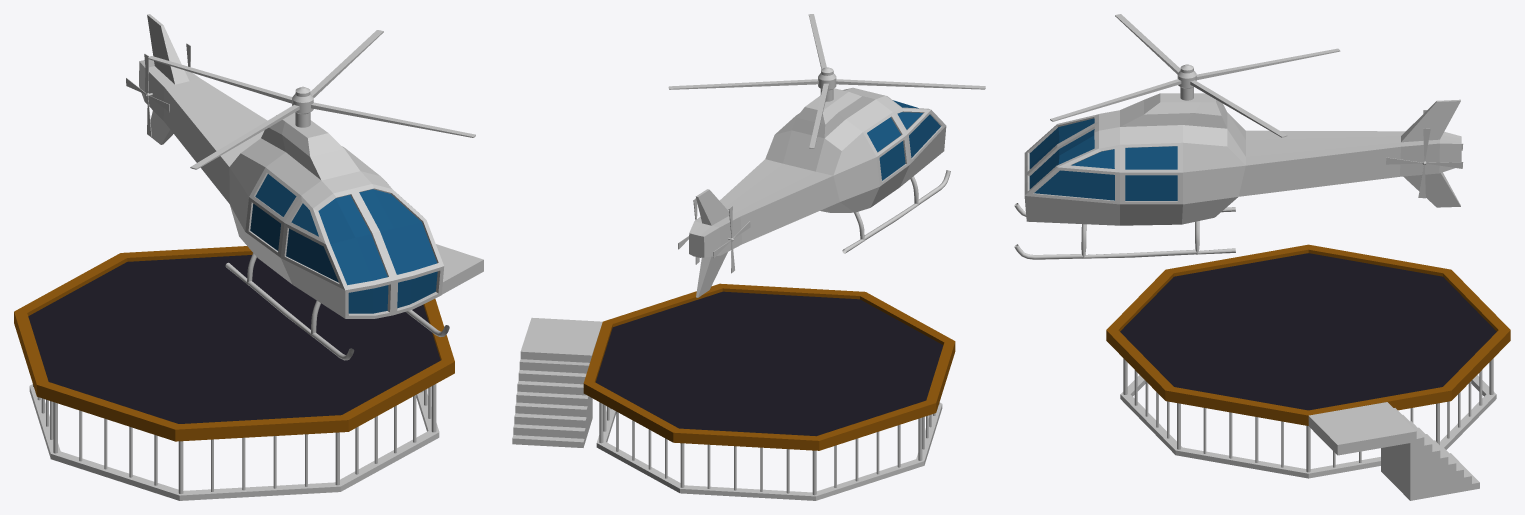
Rendered from copter_000016.obj.
3 renders of one model, left to right at view 1: azimuth 30°, elevation 25°; view 2: azimuth 150°, elevation 25°; view 3: azimuth 270°, elevation 25°, orthographic. The views are drawn at different scales.
Visible parts, largest first — view 1: Cylinder.001_Cylinder.012, Helicopter.007_Cylinder.008, Helicopter.001_Cylinder.001, Cylinder.004, Cylinder.003_Cylinder.005, Cylinder.002, Helicopter.004_Cylinder.005; view 2: Cylinder.001_Cylinder.012, Helicopter.007_Cylinder.008, Helicopter.001_Cylinder.001, Cylinder.004, Cylinder.003_Cylinder.005, Cylinder.002; view 3: Cylinder.001_Cylinder.012, Helicopter.007_Cylinder.008, Helicopter.001_Cylinder.001, Cylinder.004, Cylinder.002, Cylinder.003_Cylinder.005, Helicopter.003_Cylinder.004.
Part boxes in pixels (left/top/right/bottom): Cylinder.001_Cylinder.012: left=14, top=244, right=483, bottom=500; Helicopter.007_Cylinder.008: left=139, top=14, right=449, bottom=360; Helicopter.001_Cylinder.001: left=148, top=30, right=475, bottom=169; Cylinder.004: left=211, top=395, right=416, bottom=491; Cylinder.003_Cylinder.005: left=37, top=387, right=431, bottom=485; Cylinder.002: left=33, top=384, right=436, bottom=493; Helicopter.004_Cylinder.005: left=126, top=53, right=169, bottom=136; Cylinder.001_Cylinder.012: left=512, top=283, right=955, bottom=500; Helicopter.007_Cylinder.008: left=689, top=87, right=950, bottom=297; Helicopter.001_Cylinder.001: left=668, top=14, right=985, bottom=148; Cylinder.004: left=616, top=411, right=789, bottom=493; Cylinder.003_Cylinder.005: left=603, top=404, right=935, bottom=487; Cylinder.002: left=599, top=402, right=939, bottom=495; Cylinder.001_Cylinder.012: left=1106, top=244, right=1510, bottom=500; Helicopter.007_Cylinder.008: left=1014, top=93, right=1461, bottom=259; Helicopter.001_Cylinder.001: left=1050, top=14, right=1340, bottom=137; Cylinder.004: left=1134, top=370, right=1482, bottom=438; Cylinder.002: left=1123, top=358, right=1493, bottom=472; Cylinder.003_Cylinder.005: left=1203, top=408, right=1413, bottom=467; Helicopter.003_Cylinder.004: left=1386, top=128, right=1463, bottom=198.
Size of the model in its own units: 7.94 by 6.17 by 8.31.
